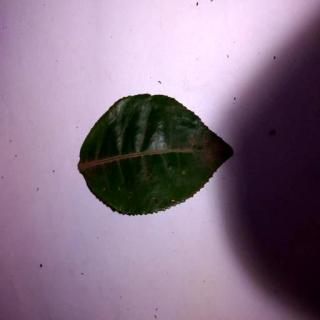Bird Eye Spot: (79, 94, 235, 216)
